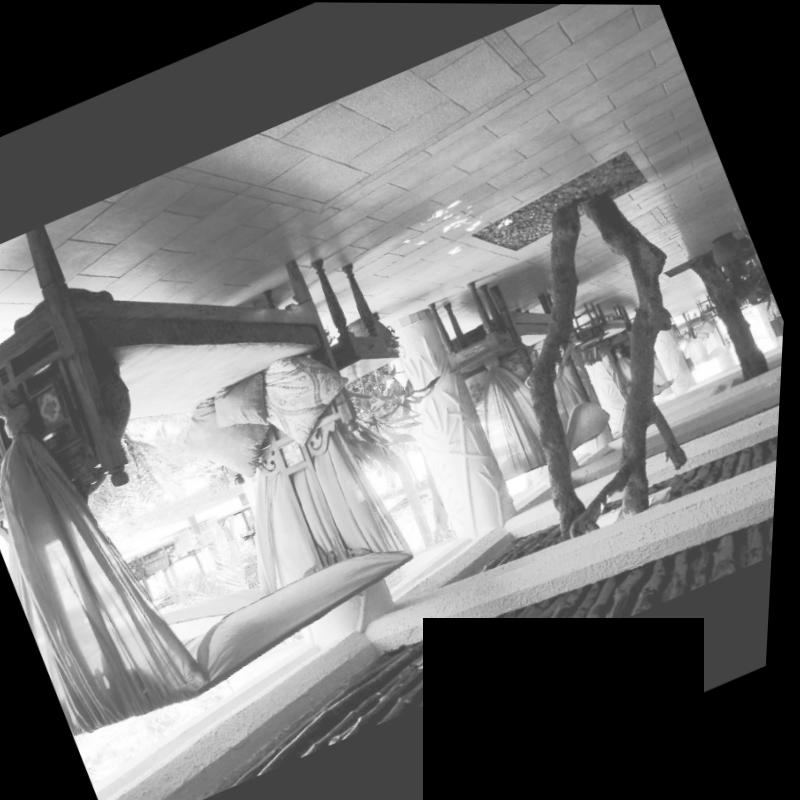pillow: (166, 373, 294, 500), (245, 348, 348, 453), (208, 370, 290, 443)
